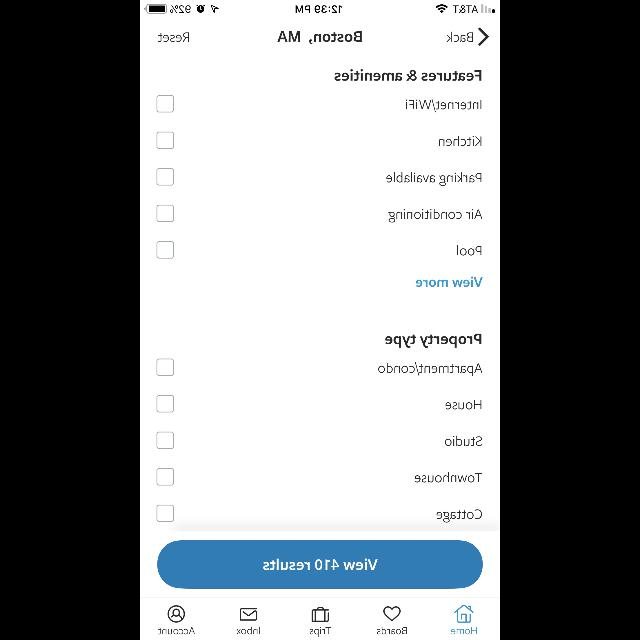checkbox: (156, 358, 174, 376), (156, 395, 174, 413), (156, 468, 174, 486), (156, 505, 174, 523), (156, 96, 174, 112), (156, 132, 174, 148), (156, 169, 174, 185), (158, 204, 174, 222), (156, 242, 174, 258), (156, 432, 174, 448)
icon: (453, 605, 472, 623), (168, 606, 185, 622), (384, 606, 401, 622), (312, 606, 328, 622), (240, 608, 256, 620), (478, 28, 488, 46)
text: (334, 69, 482, 81), (378, 362, 482, 376), (386, 172, 482, 186), (385, 334, 481, 348), (388, 209, 482, 223), (278, 32, 362, 44), (406, 100, 480, 112), (416, 276, 482, 288), (414, 472, 482, 482), (436, 510, 482, 522), (439, 136, 481, 146), (157, 32, 190, 44), (444, 436, 482, 446), (445, 400, 481, 410), (457, 244, 481, 256), (446, 32, 472, 42), (377, 627, 407, 635), (158, 628, 195, 634), (310, 627, 330, 637), (237, 626, 260, 634), (451, 628, 477, 634)
textbutton: (157, 540, 483, 588)
uppertaskbar: (140, 0, 500, 14)
